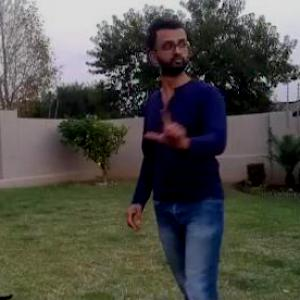land_hand: (142, 92, 194, 153)
